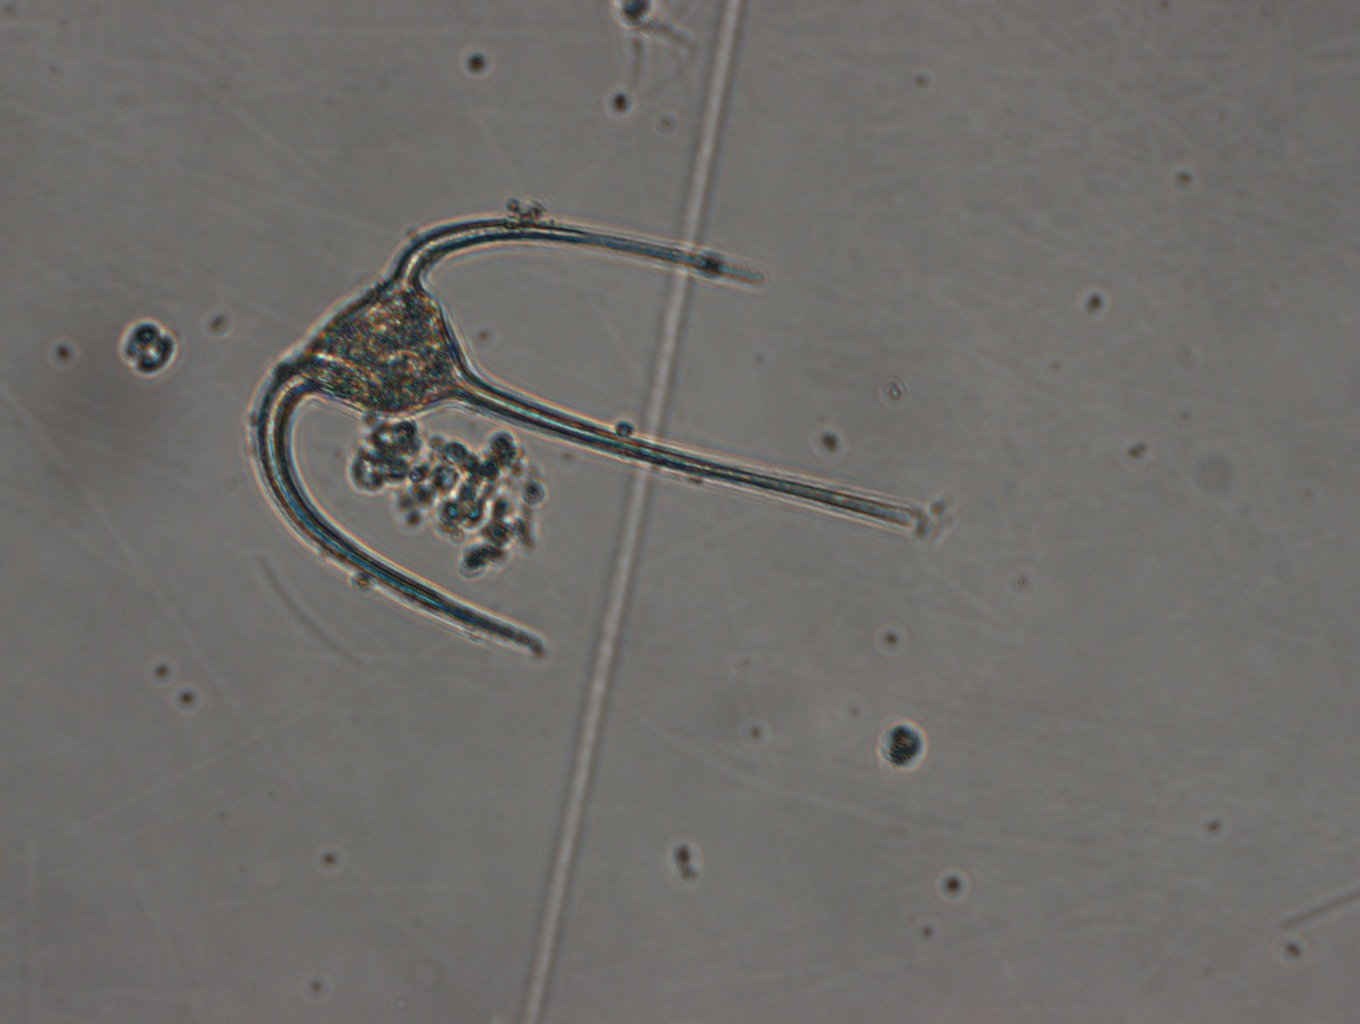ceratium trichoceros: (240, 208, 924, 663)
